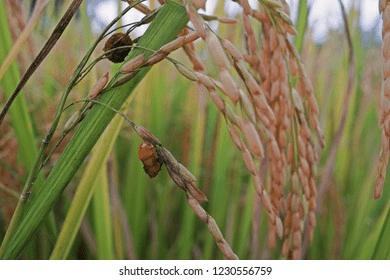False Smut: (127, 125, 186, 186), (100, 29, 142, 68)
